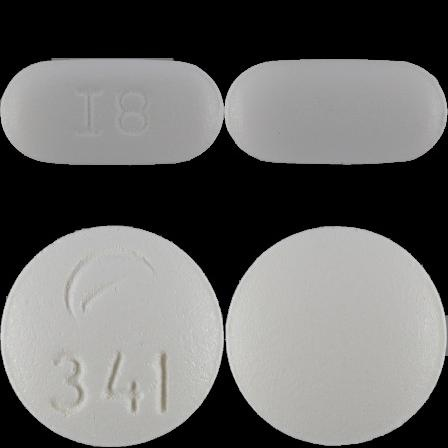0179-0119: (0, 0, 224, 224)
